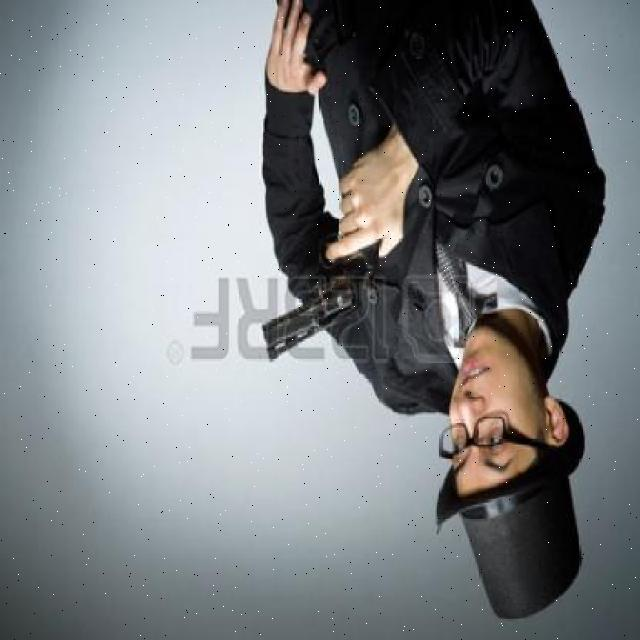gun: (247, 203, 391, 369)
